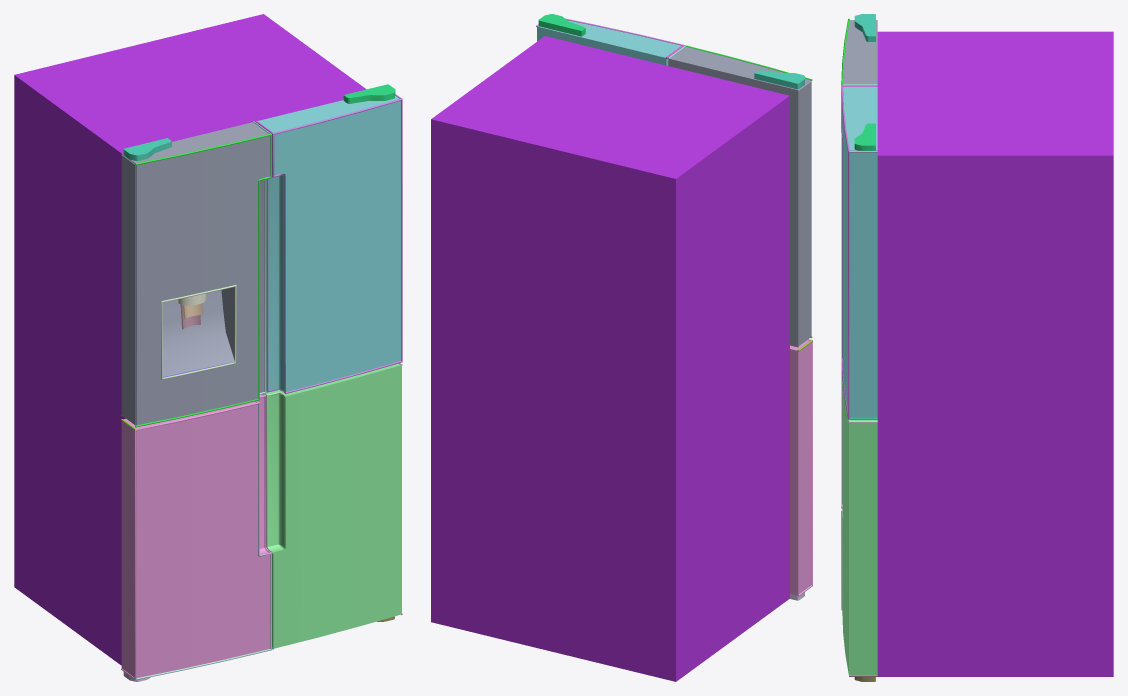
3 renders of one model, left to right at view 1: azimuth 30°, elevation 25°; view 2: azimuth 150°, elevation 25°; view 3: azimuth 270°, elevation 25°, orthographic. The views are drawn at different scales.
Visible parts, largest first — view 1: split_parent_0, split_parent_6, split_parent_3, split_parent_4, split_parent_5, split_parent_7, split_parent_10, split_parent_1, split_parent_14, Object_3.014, split_parent_12, Object_3.016; view 2: split_parent_0, split_parent_6, split_parent_3, split_parent_4, Object_3.016, Object_3.014; view 3: split_parent_0, split_parent_4, split_parent_5, split_parent_6, split_parent_7, Object_3.016, Object_3.014, split_parent_1.
Part boxes in pixels (x1,y1,x2,y2): split_parent_0: [14, 14, 366, 665]; split_parent_6: [121, 122, 270, 425]; split_parent_3: [121, 394, 272, 680]; split_parent_4: [257, 95, 400, 391]; split_parent_5: [266, 363, 401, 648]; split_parent_7: [272, 98, 402, 393]; split_parent_10: [135, 133, 271, 427]; split_parent_1: [267, 173, 285, 393]; split_parent_14: [161, 285, 236, 379]; Object_3.014: [343, 84, 395, 103]; split_parent_12: [259, 176, 272, 394]; Object_3.016: [123, 138, 171, 160]; split_parent_0: [431, 36, 789, 681]; split_parent_6: [668, 47, 811, 347]; split_parent_3: [790, 339, 812, 596]; split_parent_4: [537, 20, 681, 65]; Object_3.016: [754, 70, 804, 89]; Object_3.014: [538, 14, 585, 36]; split_parent_0: [877, 31, 1113, 676]; split_parent_4: [842, 86, 877, 417]; split_parent_5: [842, 382, 877, 674]; split_parent_6: [843, 20, 877, 84]; split_parent_7: [841, 85, 849, 419]; Object_3.016: [854, 14, 875, 41]; Object_3.014: [854, 123, 875, 150]; split_parent_1: [841, 133, 842, 358].
Bounding box in the file's own units: 0.5295 × 1 × 0.458.
